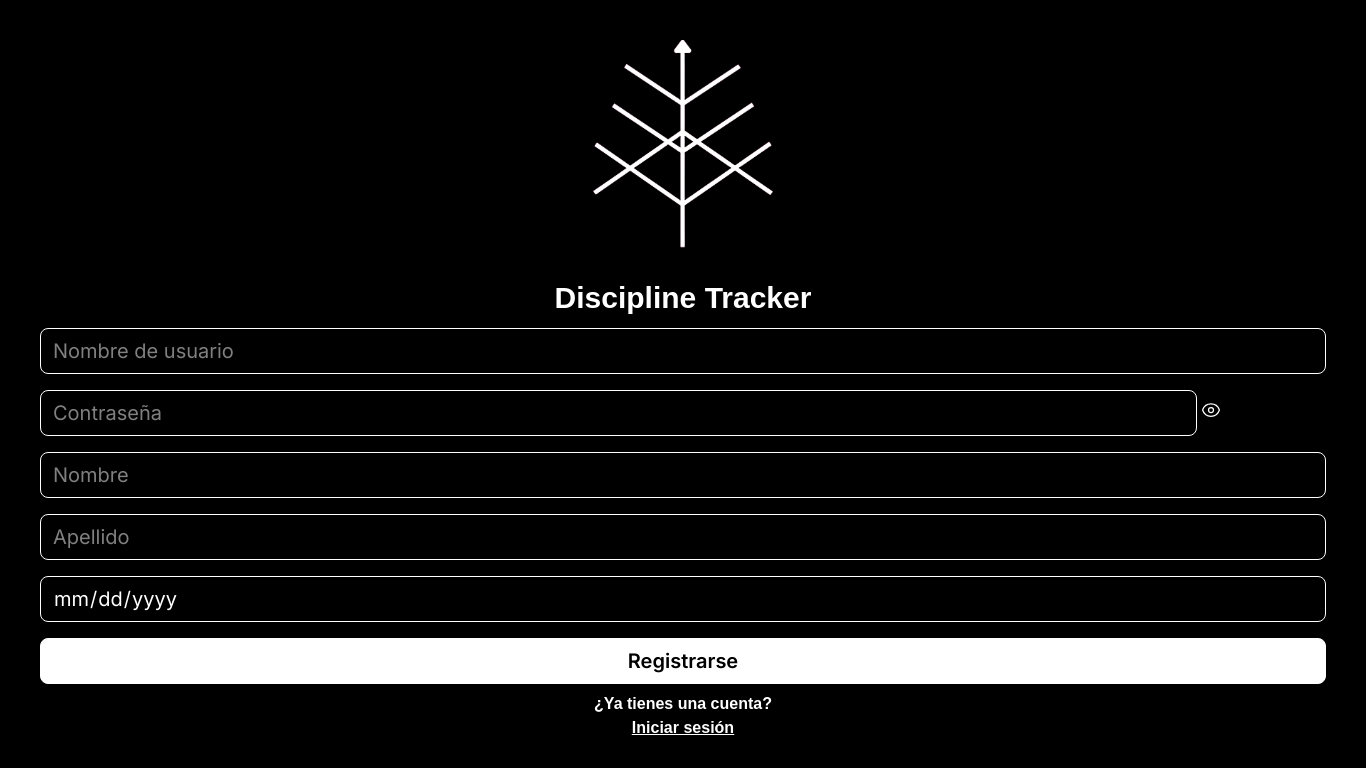
Test: Register › muestra errores de validación devueltos por el servidor
The image size is (1366, 768).
Click the button "Registrarse". click: (683, 661)
box: [40, 638, 1326, 684]
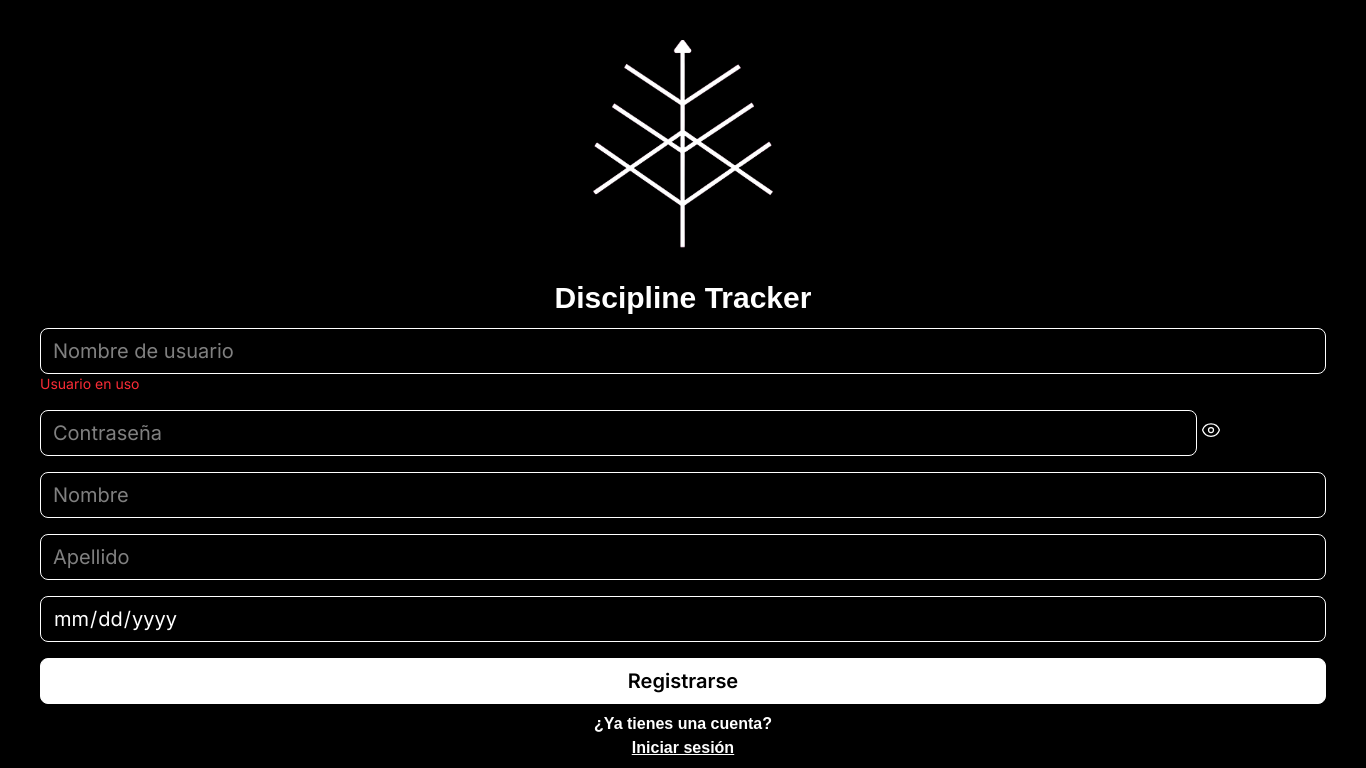
Expected: the text "Usuario en uso" is shown, [40, 375, 140, 392]
